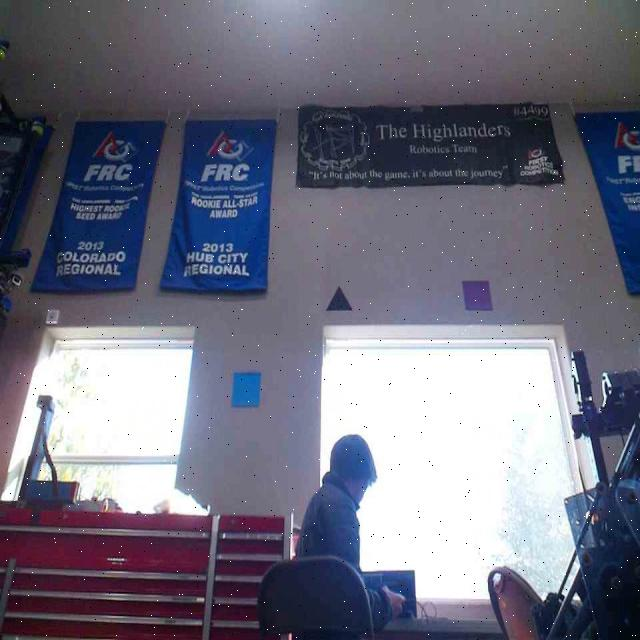square_blue: (229, 369, 261, 408)
square_purple: (459, 278, 494, 310)
triangle_black: (325, 285, 352, 311)
